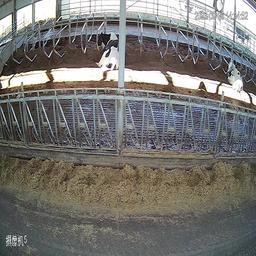cow: (93, 29, 119, 76), (223, 51, 245, 94)
